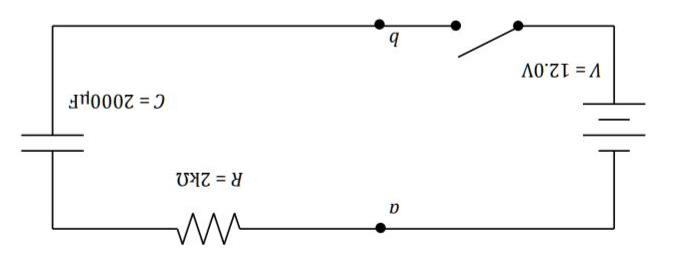Capacitor: (18, 116, 109, 176)
